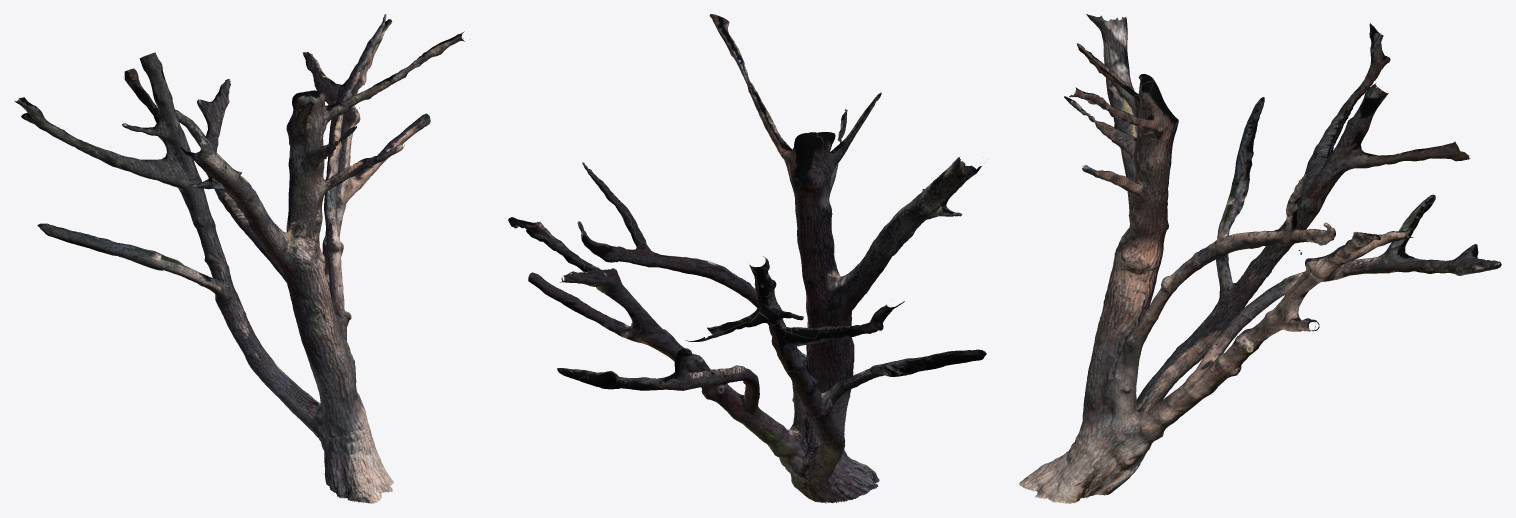
Rendered from tree_snag_lean.glb.
3 views of the same model, side by side, from view 1: azimuth 30°, elevation 25°; view 2: azimuth 150°, elevation 25°; view 3: azimuth 270°, elevation 25° (orthographic). The views are drawn at different scales.
Parts seen in each view (by area): view 1: tree_snag_lean; view 2: tree_snag_lean; view 3: tree_snag_lean.
Part boxes in pixels (left/top/right/bottom): tree_snag_lean: left=14, top=14, right=465, bottom=503; tree_snag_lean: left=508, top=14, right=986, bottom=503; tree_snag_lean: left=1019, top=14, right=1501, bottom=503.
Size of the model in its own units: 18.47 by 18.2 by 17.27.
1 material, 1 textured.
